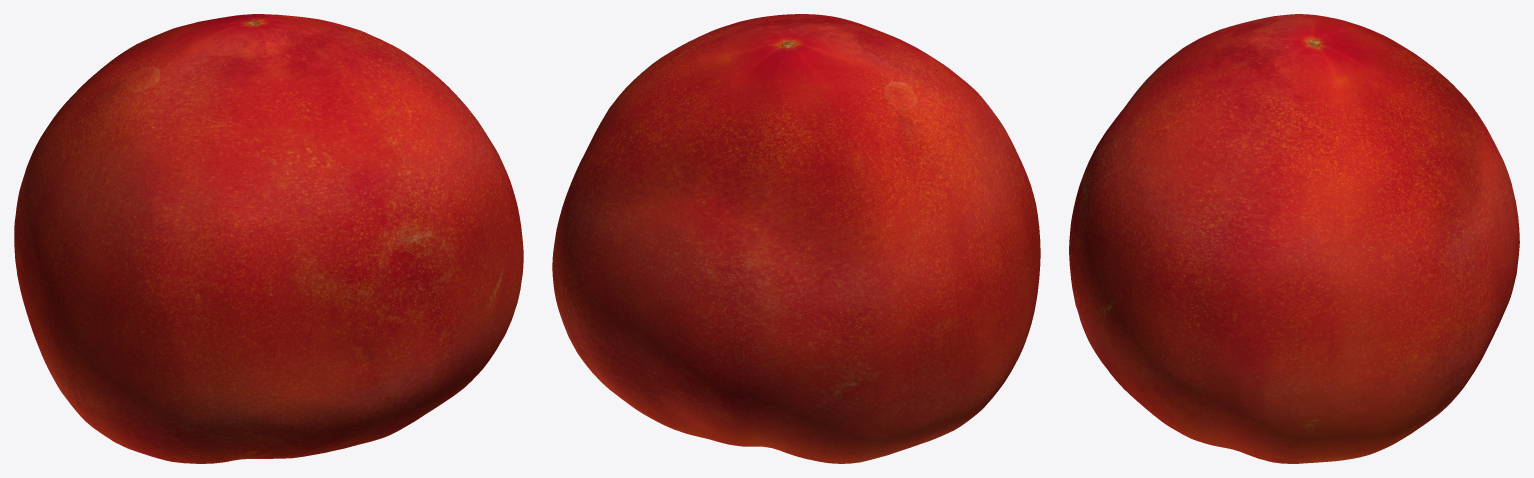
The picture shows the model from 3 angles, left to right: view 1: azimuth 30°, elevation 25°; view 2: azimuth 150°, elevation 25°; view 3: azimuth 270°, elevation 25°; orthographic projection. The views are drawn at different scales.
Visible parts, largest first — view 1: Model; view 2: Model; view 3: Model.
Boxes of the visible parts, x1,y1,x2,y2 form: Model: (14, 14, 523, 463); Model: (552, 14, 1040, 463); Model: (1069, 14, 1519, 463).
Bounding box in the file's own units: 1.37 × 1.31 × 1.2.
